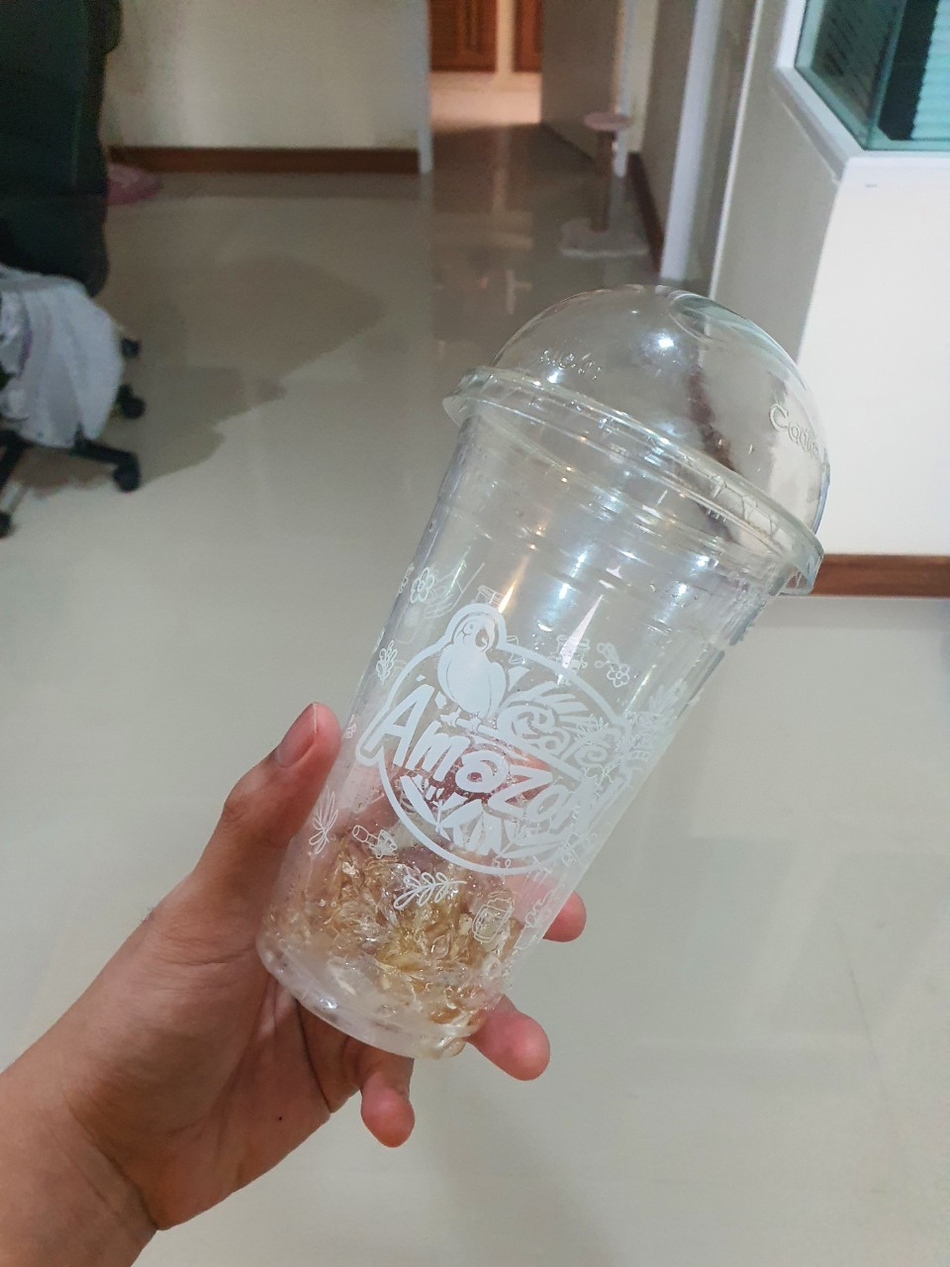plastic: (233, 264, 884, 1084)
